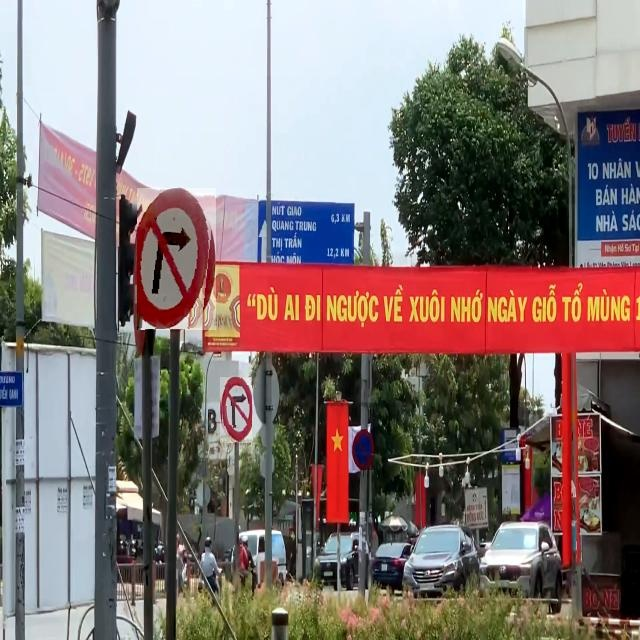bien_cam: (137, 188, 216, 330), (220, 377, 252, 443), (352, 429, 375, 470)
